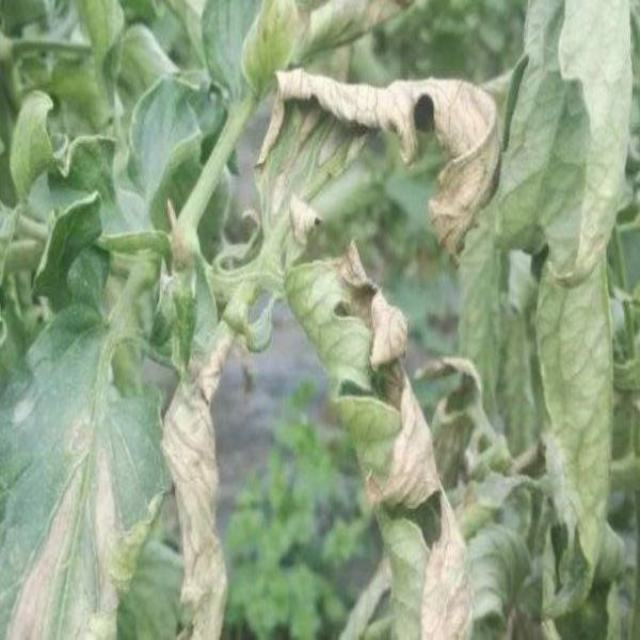Late_blight: (311, 238, 468, 640), (245, 68, 513, 260), (4, 403, 131, 640), (156, 324, 229, 640), (231, 1, 417, 70)
